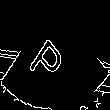P_NE: (33, 24, 77, 86)
